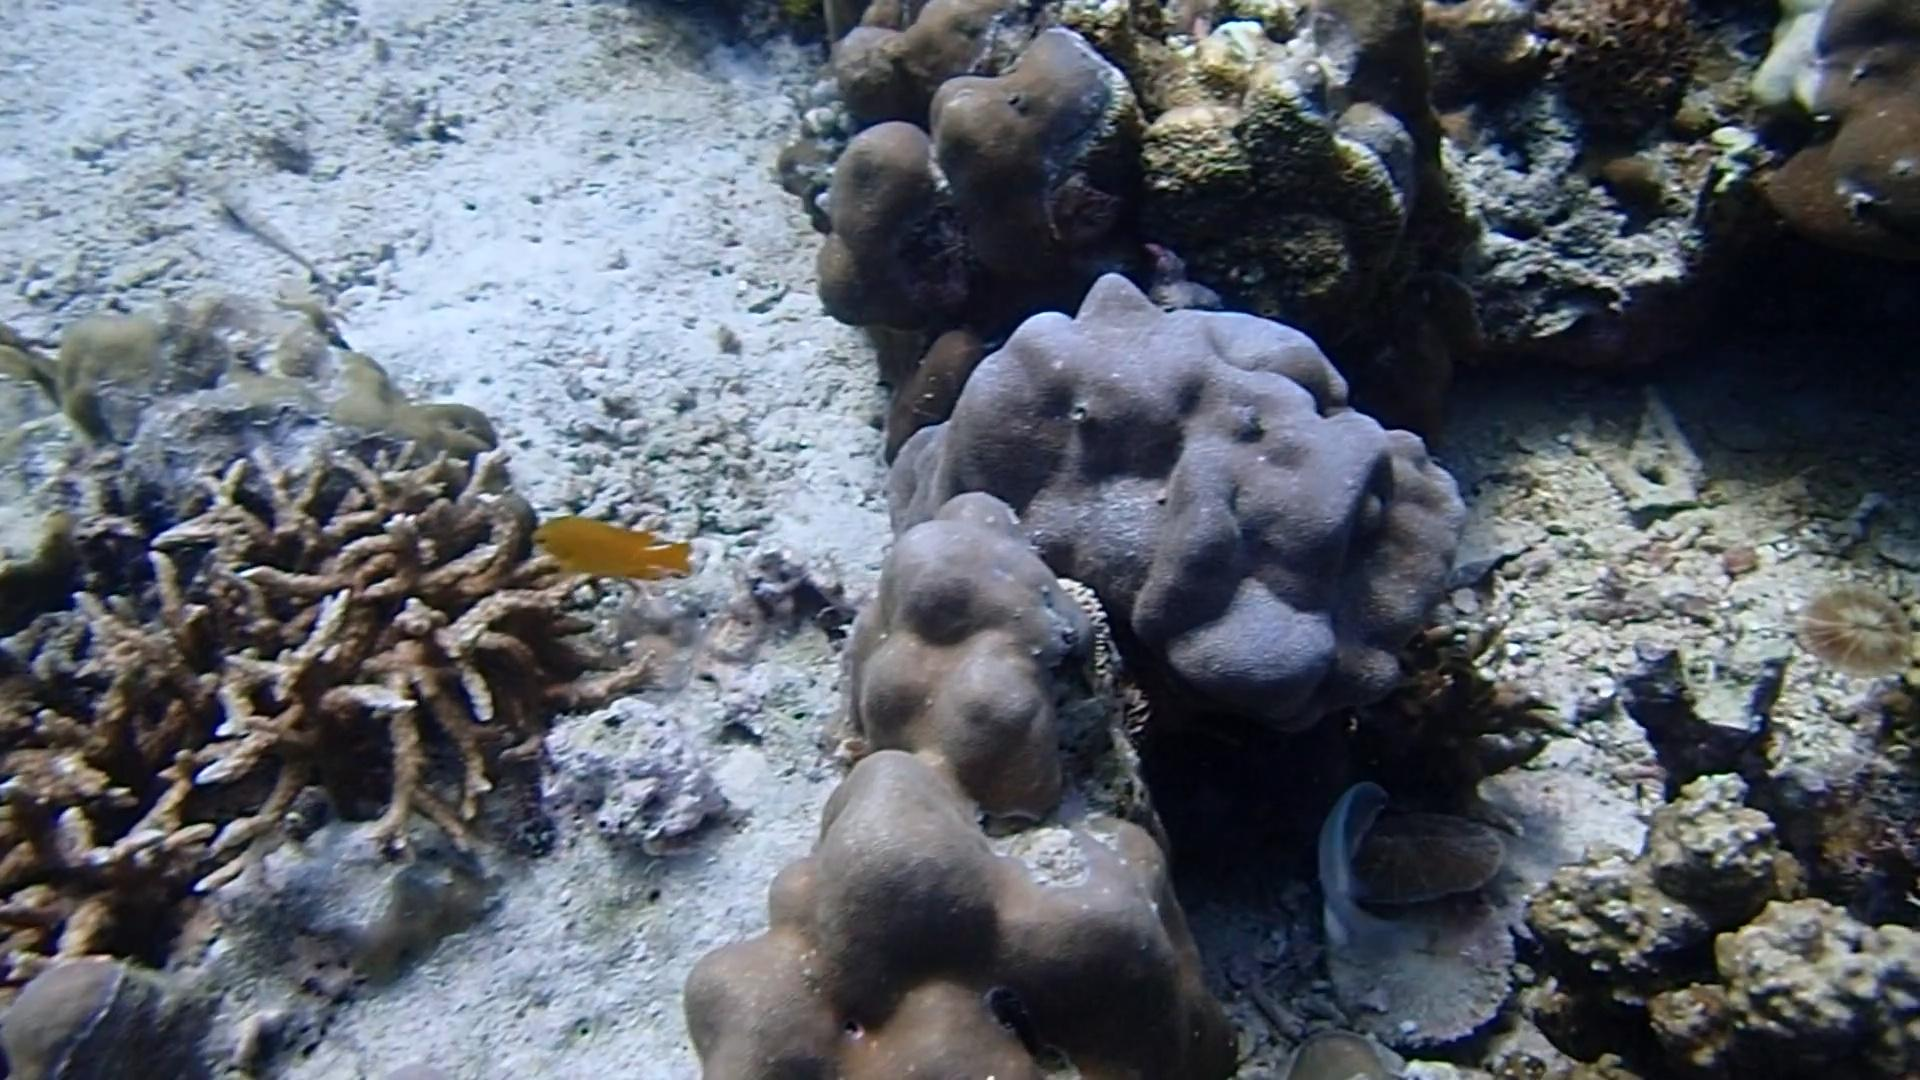Blue Fish Two: (1299, 770, 1445, 975)
Yellow Fish: (530, 500, 702, 589)
